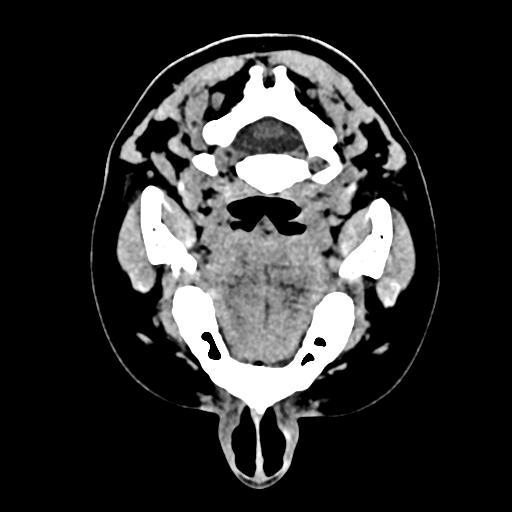Normal_Brain: (80, 23, 463, 511)
